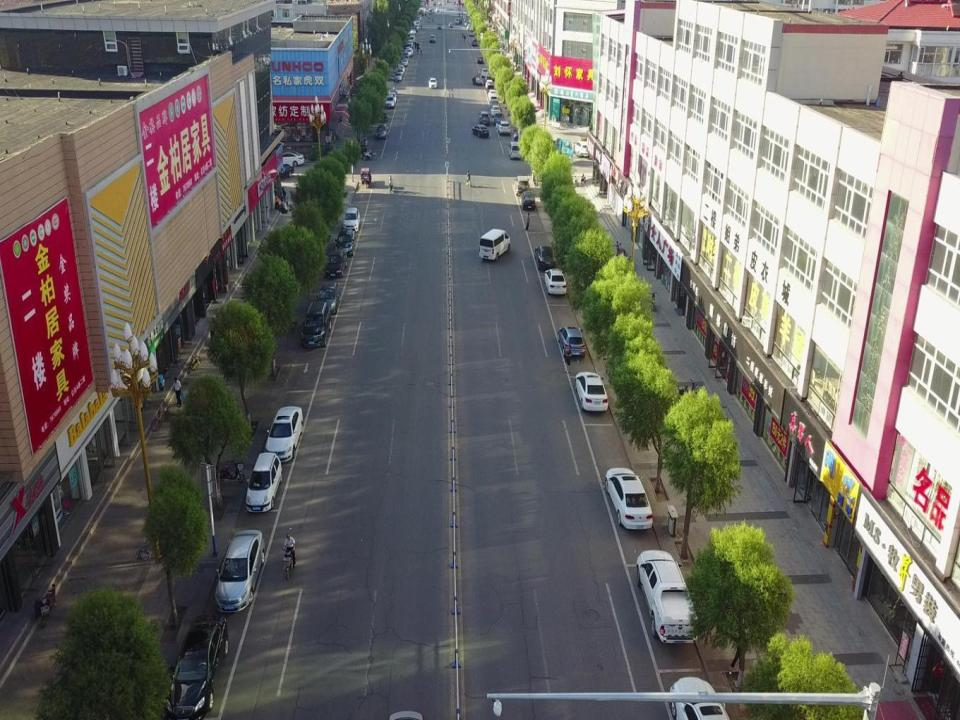car: (165, 612, 228, 720), (216, 529, 266, 614), (605, 467, 653, 530), (668, 676, 732, 720), (264, 405, 304, 463), (245, 452, 283, 512), (300, 299, 332, 349), (574, 371, 608, 411), (557, 325, 586, 360), (314, 282, 342, 316), (324, 248, 348, 278), (544, 268, 567, 296), (335, 228, 357, 257), (534, 244, 557, 271), (275, 150, 305, 168), (342, 207, 360, 232), (270, 163, 294, 181), (513, 174, 531, 196), (520, 190, 537, 212), (572, 140, 592, 158), (471, 124, 490, 138), (374, 124, 390, 140), (477, 111, 491, 126), (498, 120, 511, 136), (492, 110, 504, 124), (384, 94, 395, 108), (489, 105, 501, 116), (428, 77, 437, 89)
truck: (533, 137, 574, 161)
van: (636, 548, 700, 646), (478, 228, 510, 262), (507, 141, 521, 160)
